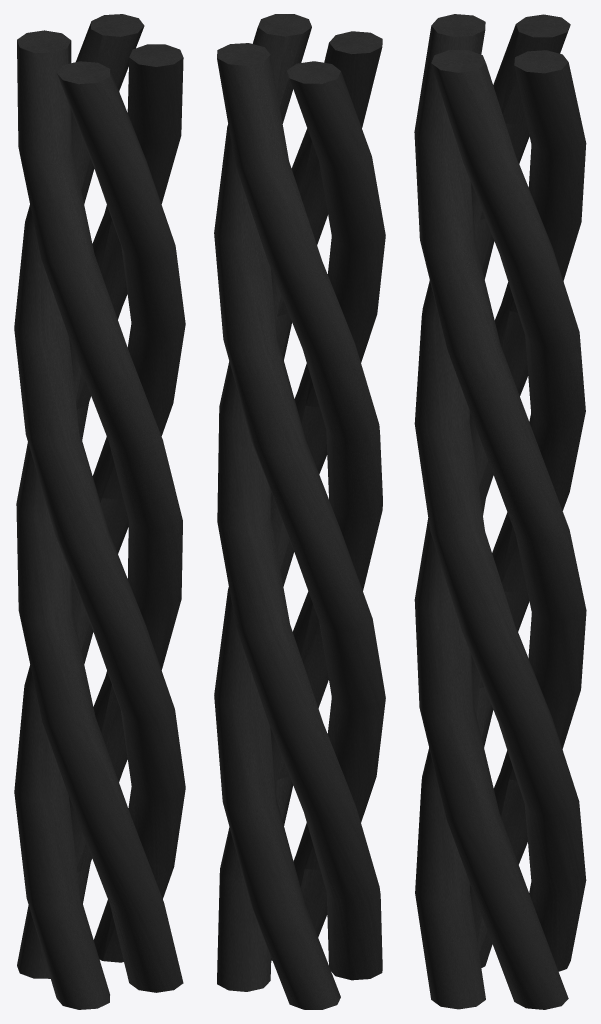
Rendered from cables.glb.
The picture shows the model from 3 angles, left to right: view 1: azimuth 30°, elevation 25°; view 2: azimuth 150°, elevation 25°; view 3: azimuth 270°, elevation 25°; orthographic projection.
Visible parts, largest first — view 1: 3DSMeshMatrix; view 2: 3DSMeshMatrix; view 3: 3DSMeshMatrix.
Boxes of the visible parts, x1,y1,x2,y2 form: 3DSMeshMatrix: (14,14,185,1009); 3DSMeshMatrix: (214,14,385,1009); 3DSMeshMatrix: (414,14,586,1009).
Size of the model in its own units: 42.33 by 254 by 42.26.
1 material, 1 textured.
